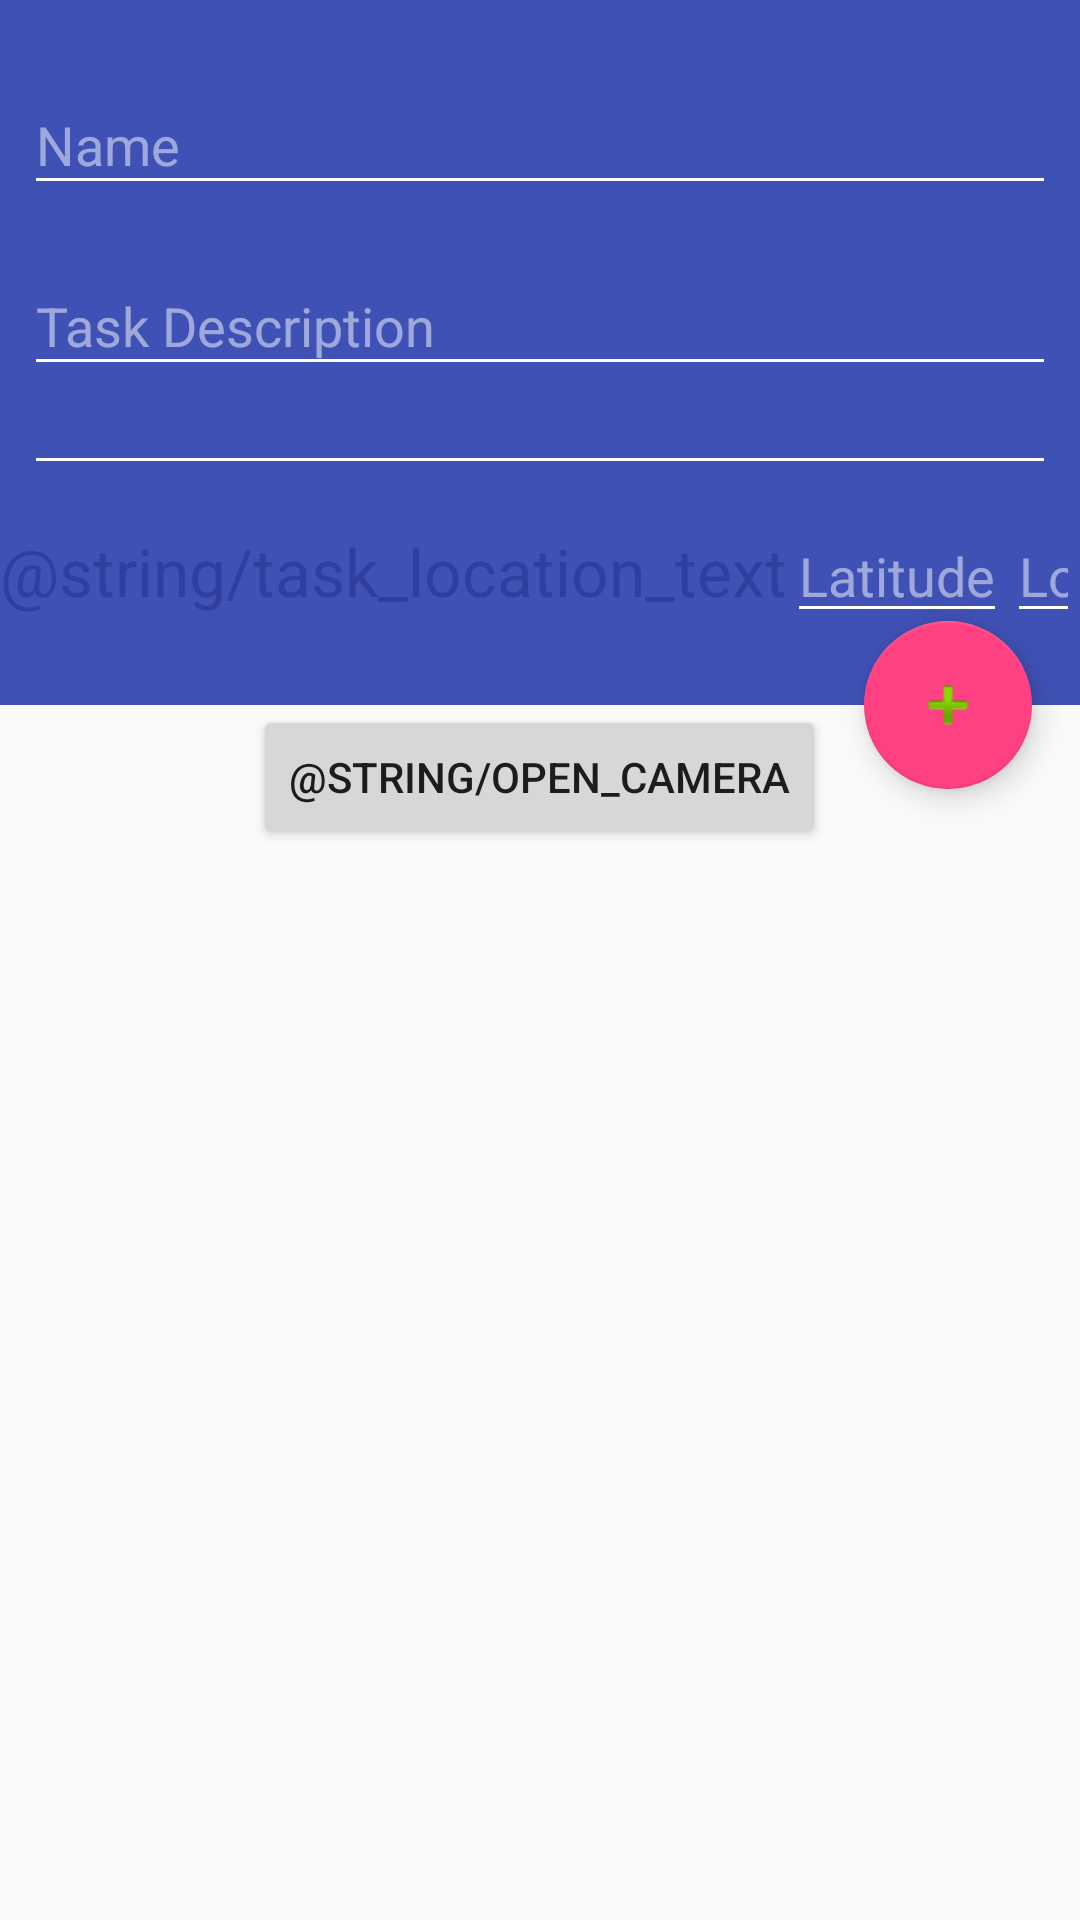

Icon click points for this 1080px x 1920px phone screenshot, format (x,y):
add: (948,705)
